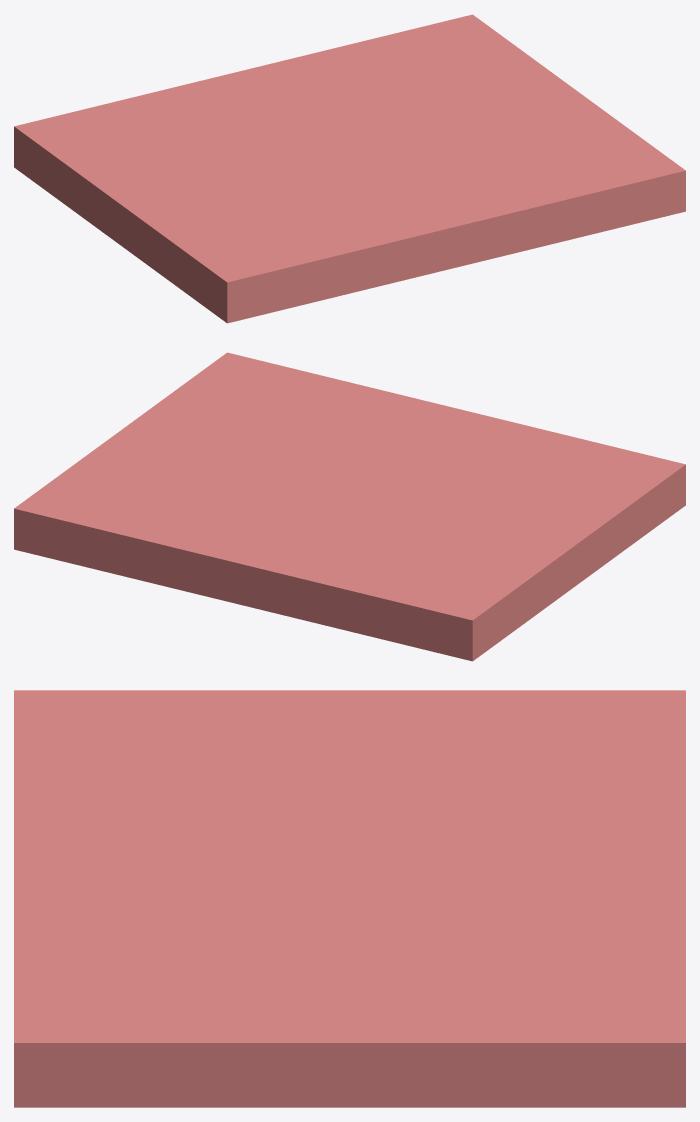
Rendered from GeologischeAbfolgeBeispiel2.gltf.
The picture shows the model from 3 angles, top to bottom: view 1: azimuth 30°, elevation 25°; view 2: azimuth 150°, elevation 25°; view 3: azimuth 270°, elevation 25°; orthographic projection. The views are drawn at different scales.
Parts seen in each view (by area): view 1: Cube.002; view 2: Cube.002; view 3: Cube.002.
Boxes of the visible parts, left/top/right/bottom form: Cube.002: left=14, top=14, right=685, bottom=323; Cube.002: left=14, top=352, right=685, bottom=661; Cube.002: left=14, top=690, right=685, bottom=1107.
Bounding box in the file's own units: 1.1 × 0.0943 × 0.8898.
